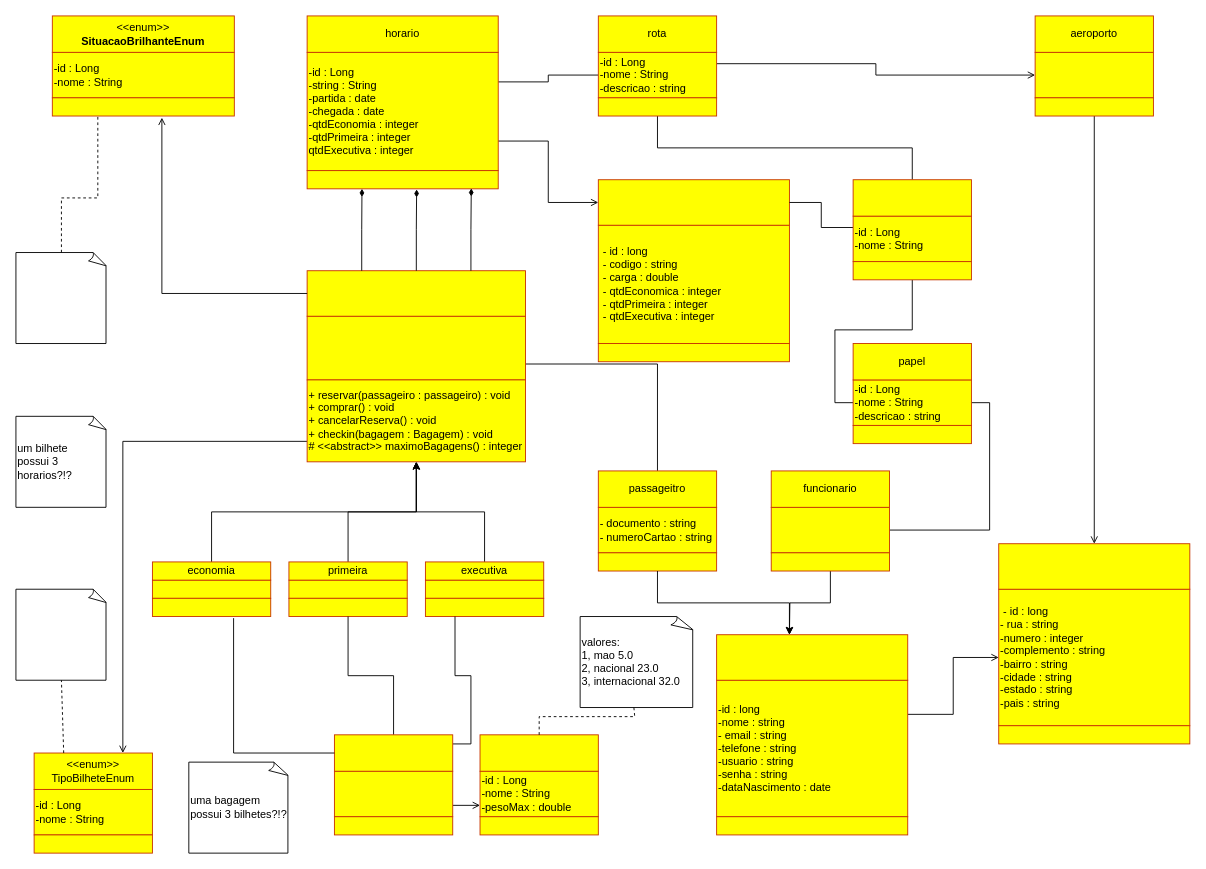
Some shapes in this 1206 by 869 pixel diagram are drawn without their labels. Here are the shapes that lost their labels. From the top down, the box of each, then its label:
(1034, 51, 1153, 98): -id : Long -nome : String -codigo : string
(597, 179, 789, 225): aviao
(852, 179, 971, 216): ciaAerea
(15, 252, 107, 344): valores: 1, disponivel 2, reservado 3, vendido
(306, 270, 526, 316): <<abstract>> bilhete
(306, 315, 526, 380): -id : long -numero : integer -assento : string
(770, 506, 890, 553): -codigo : string contaCorrente : string
(998, 543, 1190, 589): endereco
(15, 588, 107, 680): valores: 1, economica 2, executiva 3, primeira
(716, 634, 908, 680): <<abstract>> pessoa
(334, 734, 453, 771): bagagem
(479, 734, 598, 771): <<enum>> TipoBagagemEnum
(334, 770, 453, 817): -id : Long -peso : double
